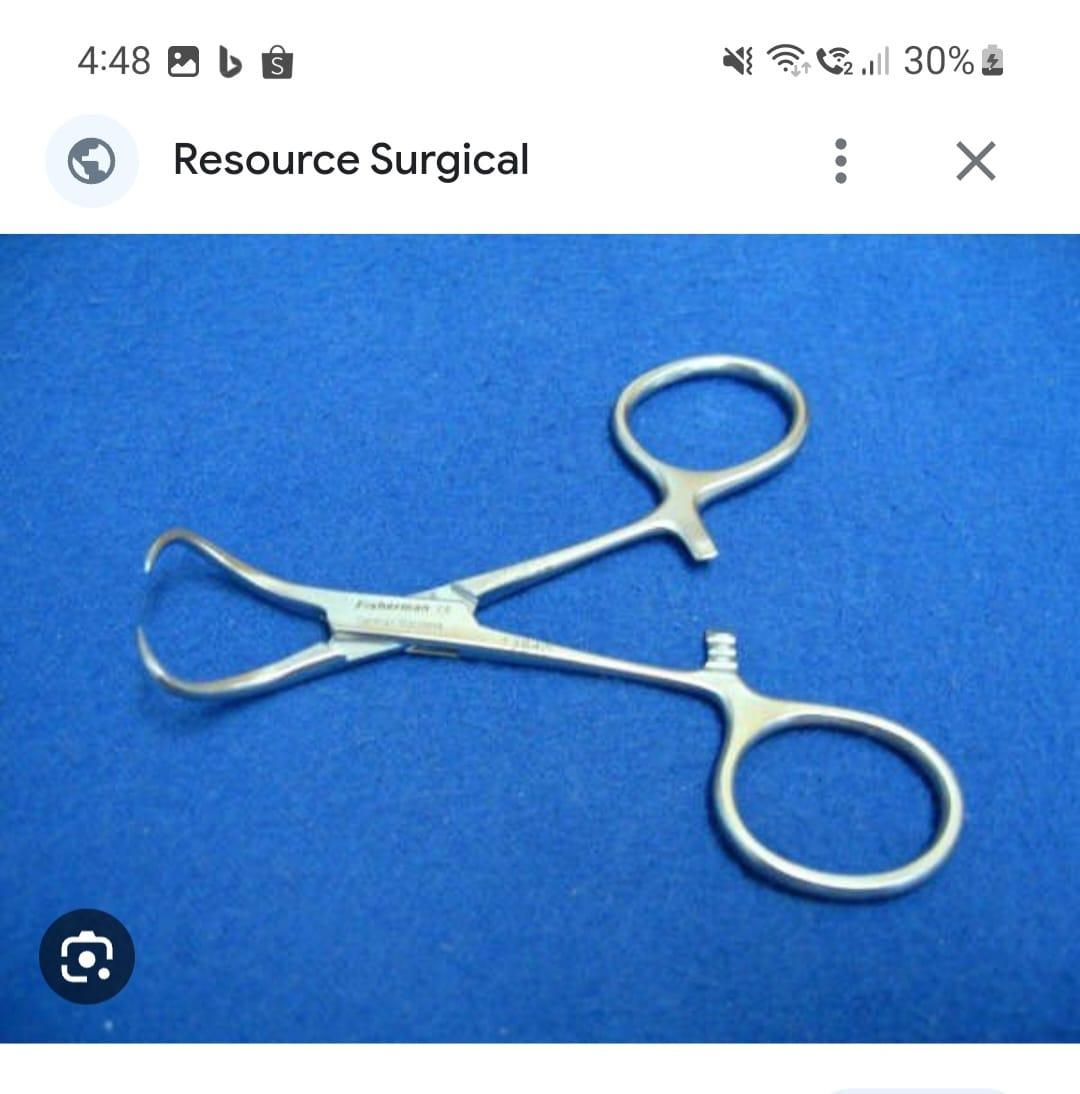Backhaus Towel Clamp: (133, 342, 963, 907)
